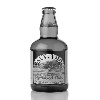beer: (31, 4, 70, 95)
